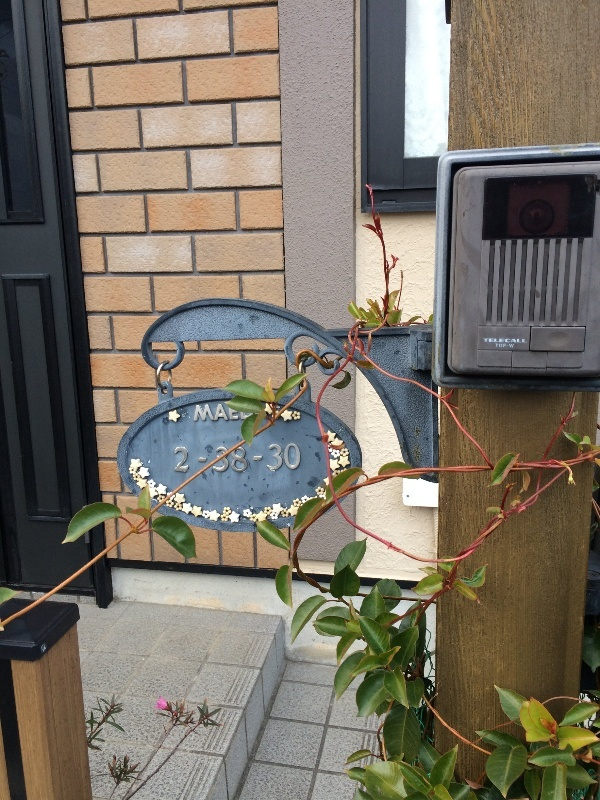text: (177, 440, 192, 478), (193, 440, 208, 478), (209, 440, 224, 478), (225, 440, 240, 478), (241, 440, 256, 478), (257, 440, 272, 478), (273, 440, 288, 478), (289, 440, 301, 478), (209, 397, 224, 422), (225, 397, 240, 422), (241, 397, 255, 422), (196, 397, 208, 422), (497, 338, 512, 344), (497, 343, 512, 349), (513, 338, 527, 344), (483, 338, 496, 344), (175, 440, 176, 478), (513, 343, 514, 349)
